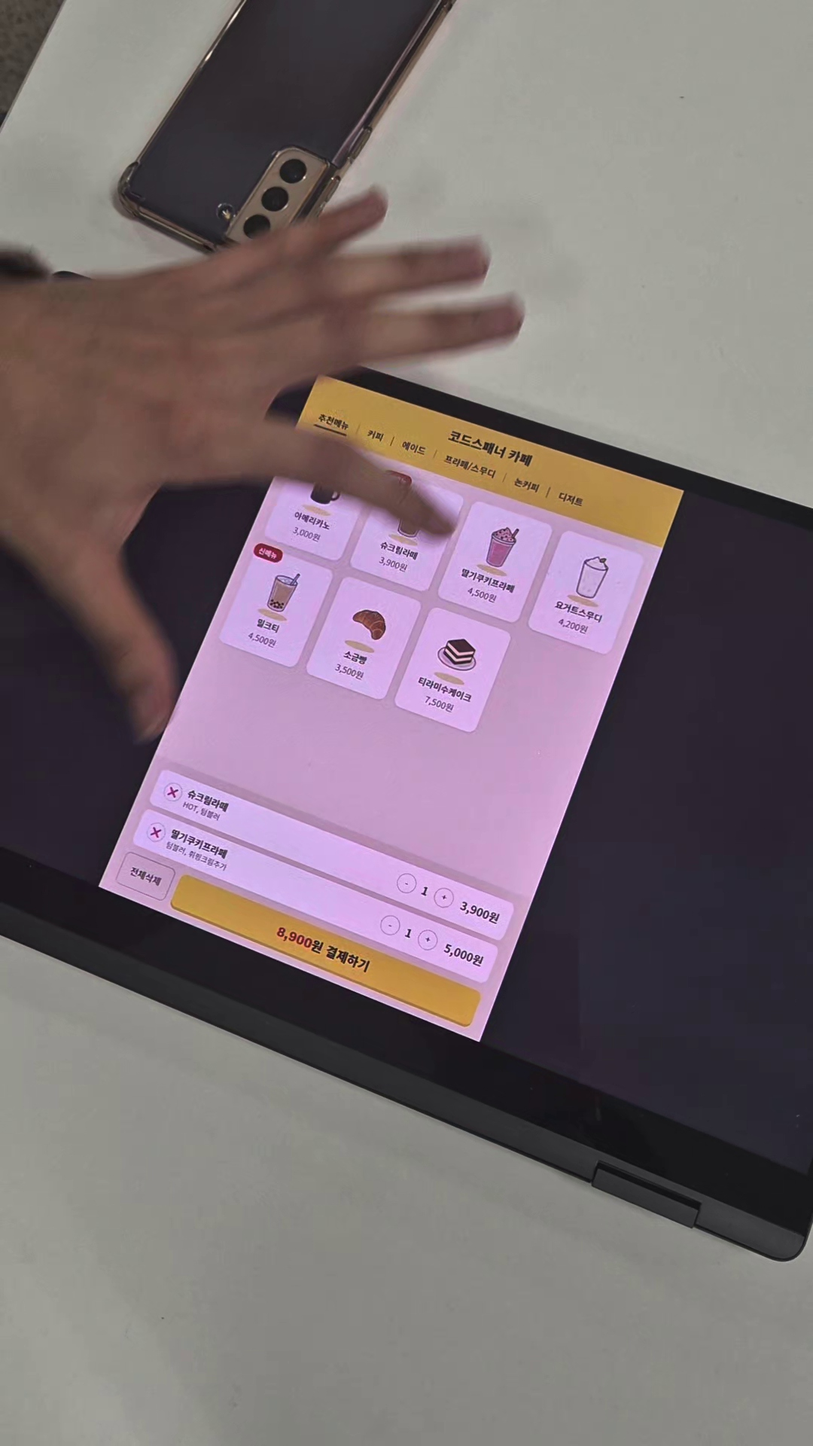action_button: (170, 869, 487, 1029), (113, 851, 177, 903)
cart_item: (146, 767, 521, 946), (130, 808, 502, 986)
category_tab: (443, 451, 501, 482), (308, 406, 355, 437), (551, 487, 591, 514), (509, 469, 545, 497), (398, 432, 431, 459), (362, 424, 390, 446)
menu_back: (211, 538, 339, 675), (299, 572, 424, 708), (391, 602, 514, 740), (521, 524, 644, 658), (434, 499, 557, 627), (261, 437, 379, 566)
menu_name: (166, 825, 234, 864), (456, 562, 524, 599), (412, 672, 479, 707), (549, 591, 606, 629), (183, 785, 237, 817), (283, 507, 335, 534), (375, 538, 422, 565), (340, 646, 371, 669), (252, 613, 283, 635)
menu_price: (450, 896, 503, 931), (440, 940, 488, 972), (329, 658, 367, 683), (461, 583, 501, 606), (420, 694, 457, 716), (244, 628, 279, 651), (554, 616, 592, 636), (376, 554, 410, 575), (289, 526, 323, 546)
